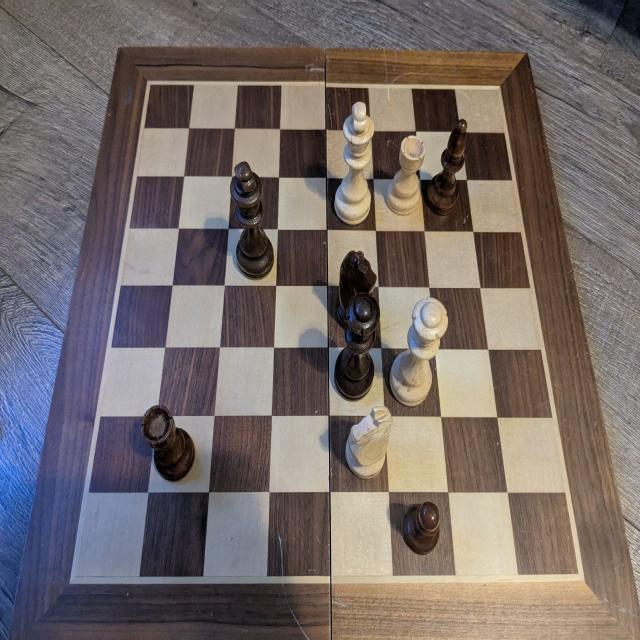black_bishop: (424, 118, 468, 215)
black_king: (230, 158, 276, 277)
black_knight: (336, 249, 378, 328)
black_pawn: (402, 498, 442, 555)
black_queen: (334, 291, 379, 399)
black_rook: (141, 403, 196, 484)
white_king: (335, 101, 375, 225)
white_knight: (345, 406, 392, 478)
white_queen: (389, 296, 449, 405)
white_rook: (386, 135, 424, 216)
